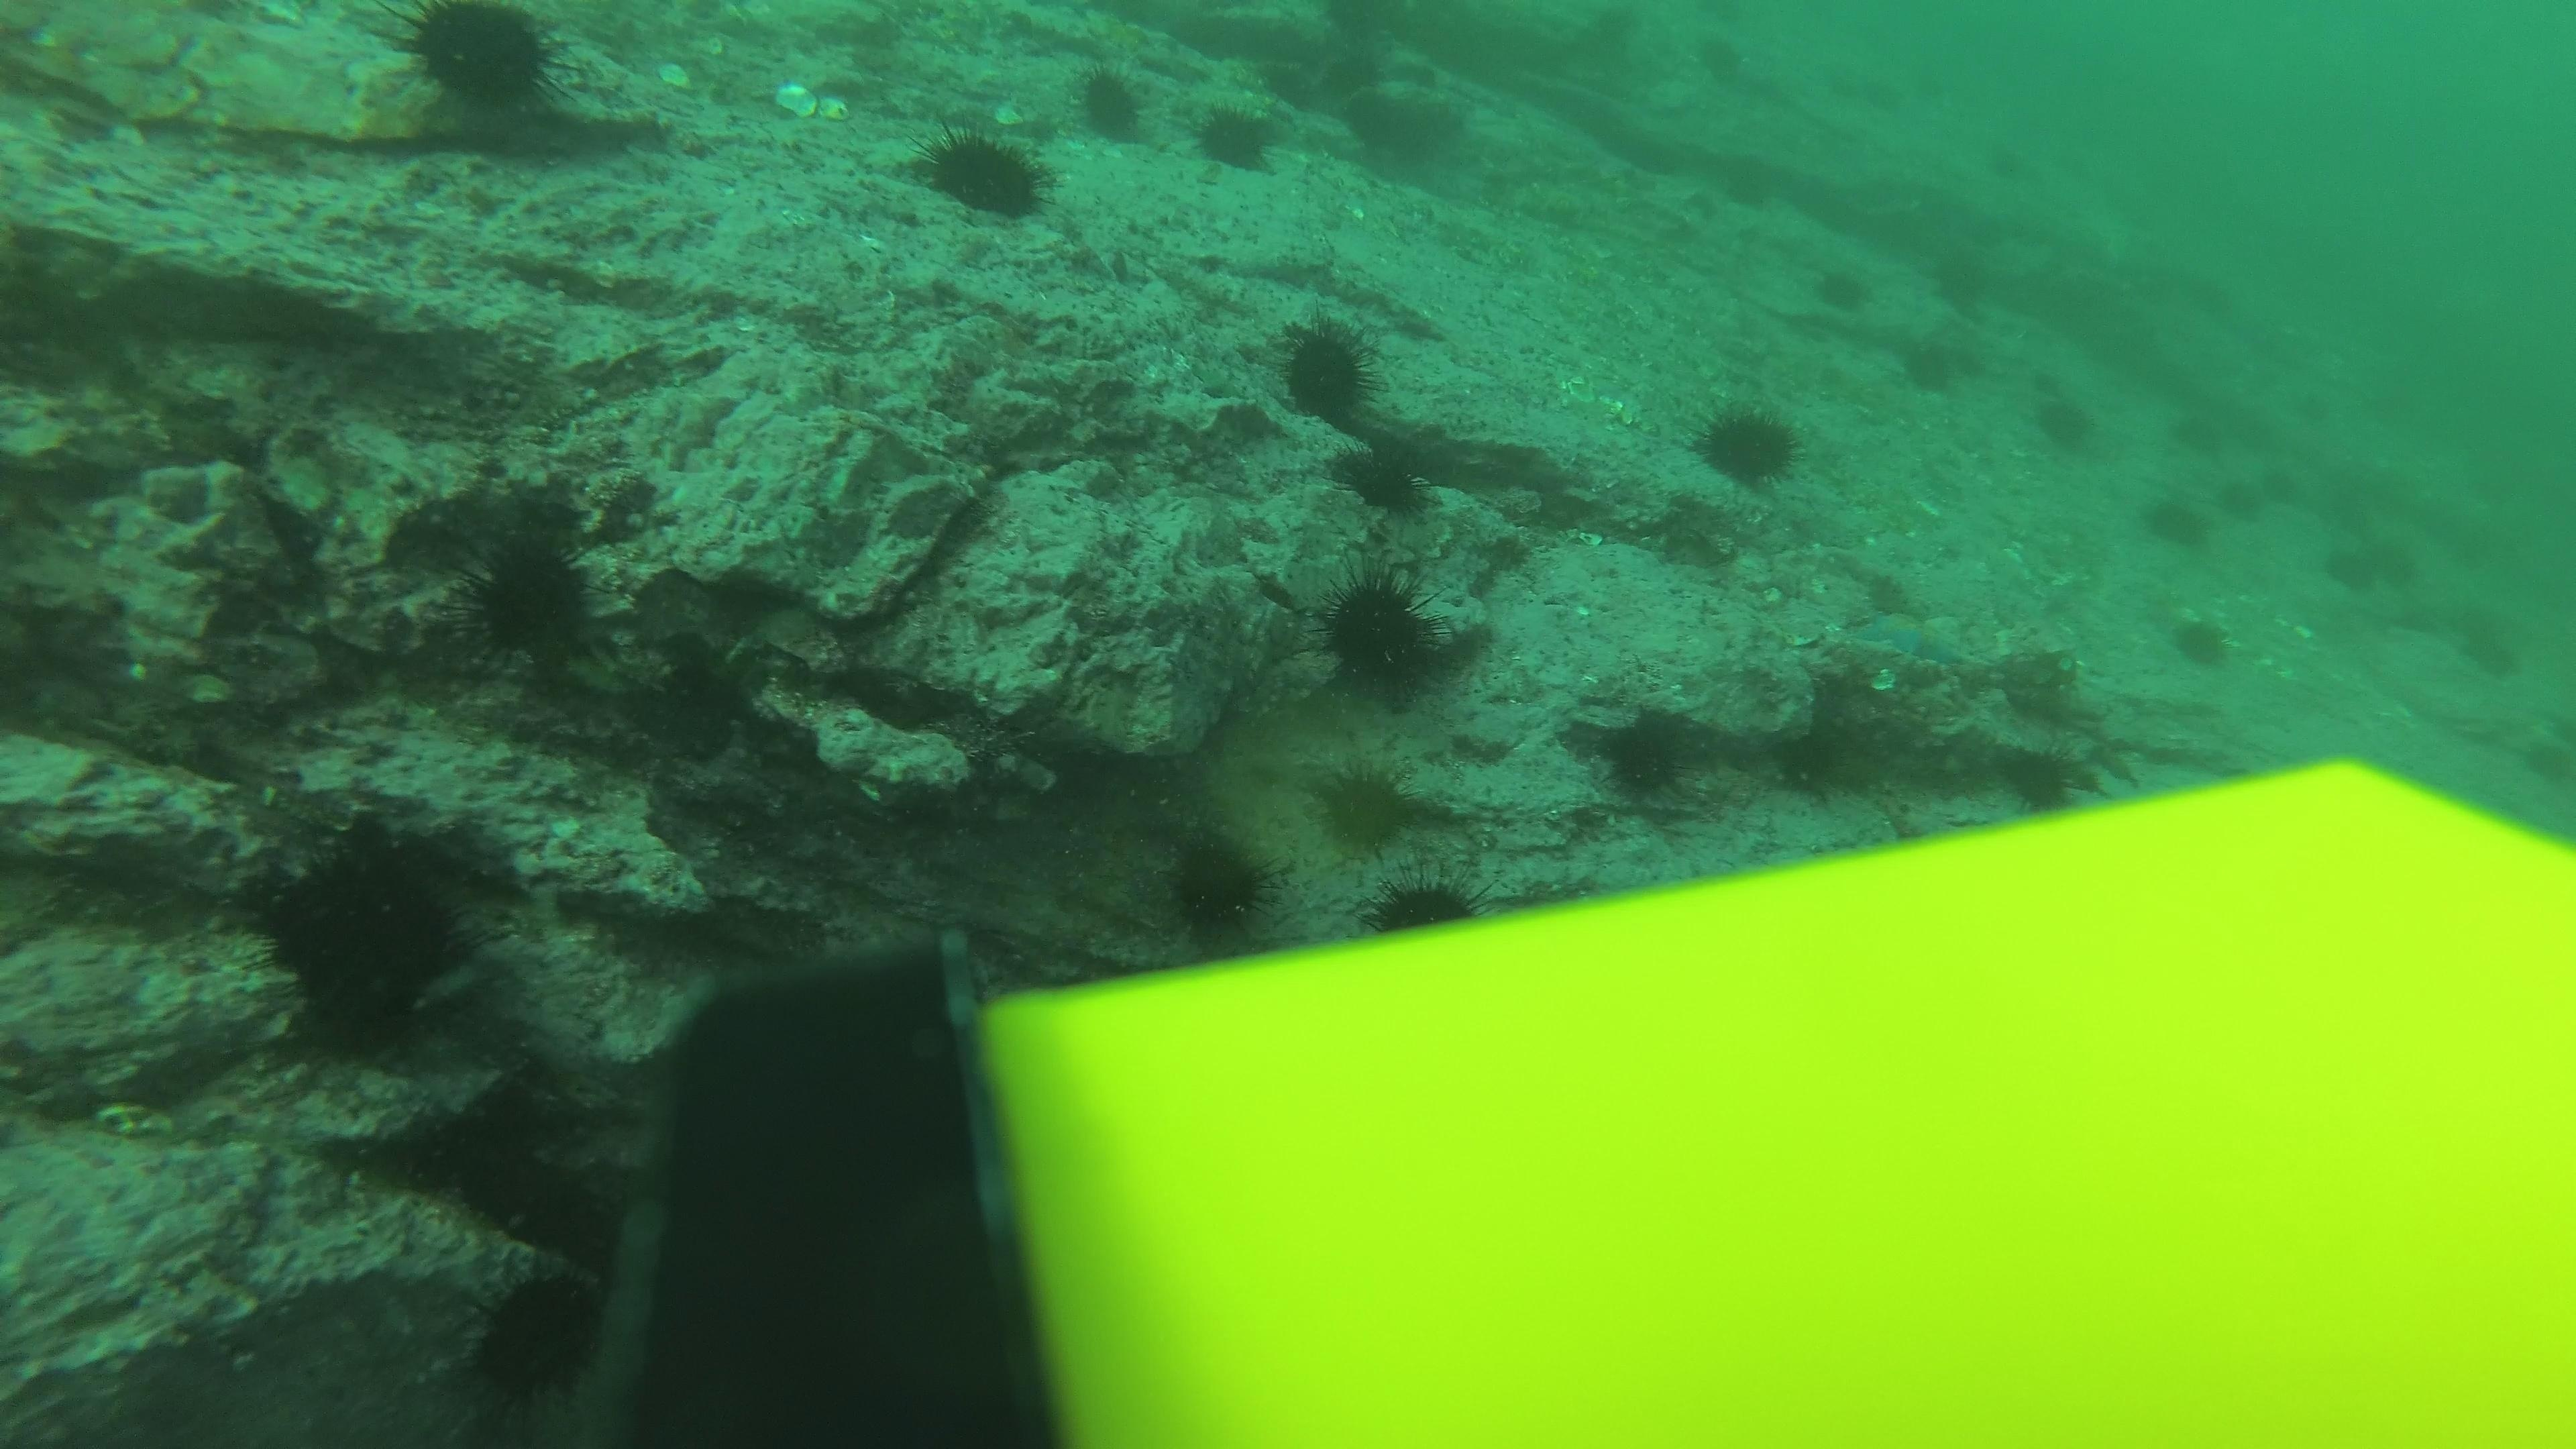echinus: (241, 832, 487, 1063), (456, 1260, 614, 1414), (389, 0, 570, 122), (458, 529, 605, 671), (1313, 564, 1454, 704), (913, 120, 1054, 225), (1338, 74, 1474, 180), (1157, 830, 1281, 945), (1269, 313, 1387, 430), (1585, 702, 1704, 809), (1307, 759, 1430, 858), (1691, 396, 1806, 490), (1330, 435, 1438, 522), (1362, 867, 1484, 939), (1187, 96, 1286, 177), (1996, 738, 2098, 816), (1067, 62, 1155, 147), (2024, 380, 2102, 458), (1893, 329, 1976, 398), (2139, 487, 2215, 554), (2166, 609, 2236, 674), (1932, 255, 2001, 315), (1819, 260, 1886, 318), (2254, 460, 2318, 511), (2312, 547, 2376, 596), (2367, 536, 2431, 586), (2217, 472, 2281, 522), (2171, 409, 2235, 458), (2358, 380, 2419, 423), (2293, 384, 2353, 425), (1723, 166, 1766, 209), (1702, 37, 1743, 80), (1596, 2, 1637, 44), (1985, 136, 2026, 177), (1863, 81, 1898, 111), (1831, 65, 1865, 96), (1916, 73, 1950, 103)
starfish: (1844, 605, 1976, 672)
